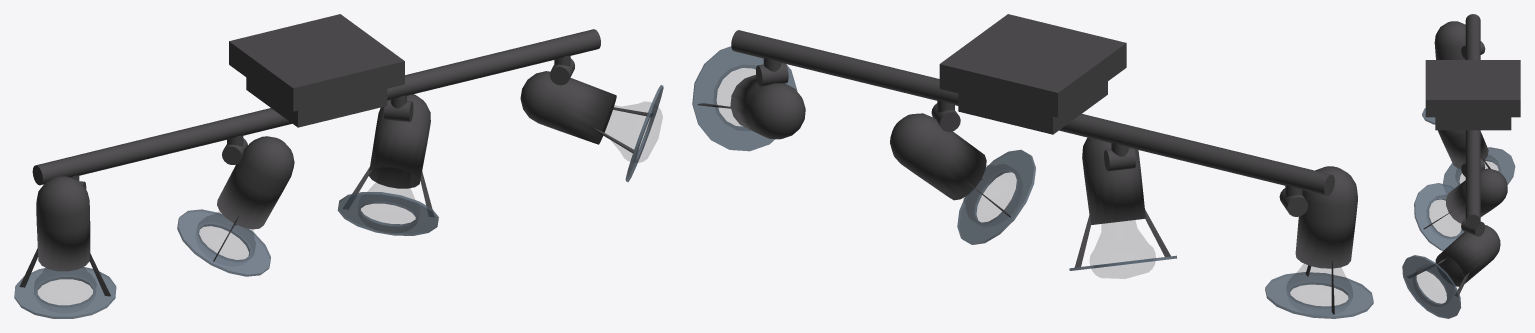
The model's file is Spotlight4.FBX.
The picture shows the model from 3 angles, left to right: view 1: azimuth 30°, elevation 25°; view 2: azimuth 150°, elevation 25°; view 3: azimuth 270°, elevation 25°; orthographic projection. The views are drawn at different scales.
Visible parts, largest first — view 1: Spotlight4; view 2: Spotlight4; view 3: Spotlight4.
Part boxes in pixels (x1=…): Spotlight4: x1=14, y1=14, x2=663, y2=318; Spotlight4: x1=692, y1=14, x2=1373, y2=318; Spotlight4: x1=1402, y1=14, x2=1520, y2=318.
Size of the model in its own units: 57.05 by 16.92 by 12.47.
